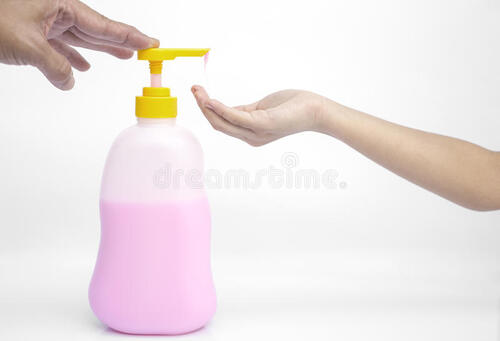sanitizer: (95, 48, 217, 332)
